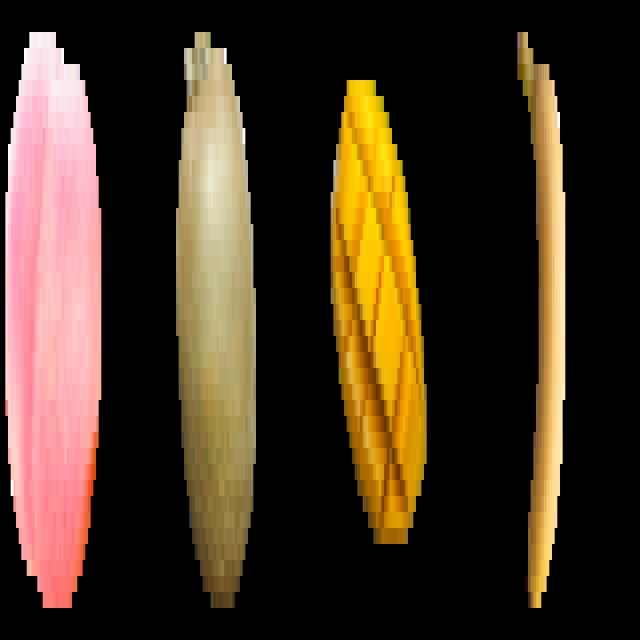bananas: (511, 13, 568, 615)
kiwifruit: (172, 19, 258, 611)
mango: (326, 48, 430, 561)
peach: (4, 39, 104, 620)
